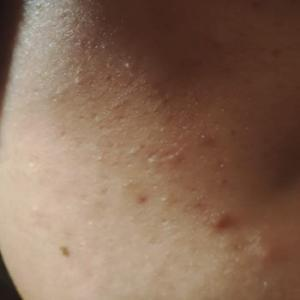Dry-Skin: (197, 3, 300, 173), (14, 0, 183, 84)
